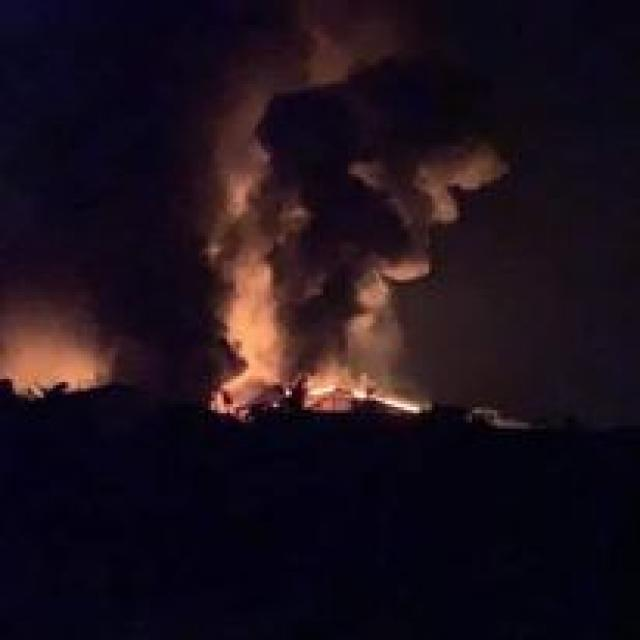Smoke: (256, 25, 504, 403), (74, 3, 327, 370)
